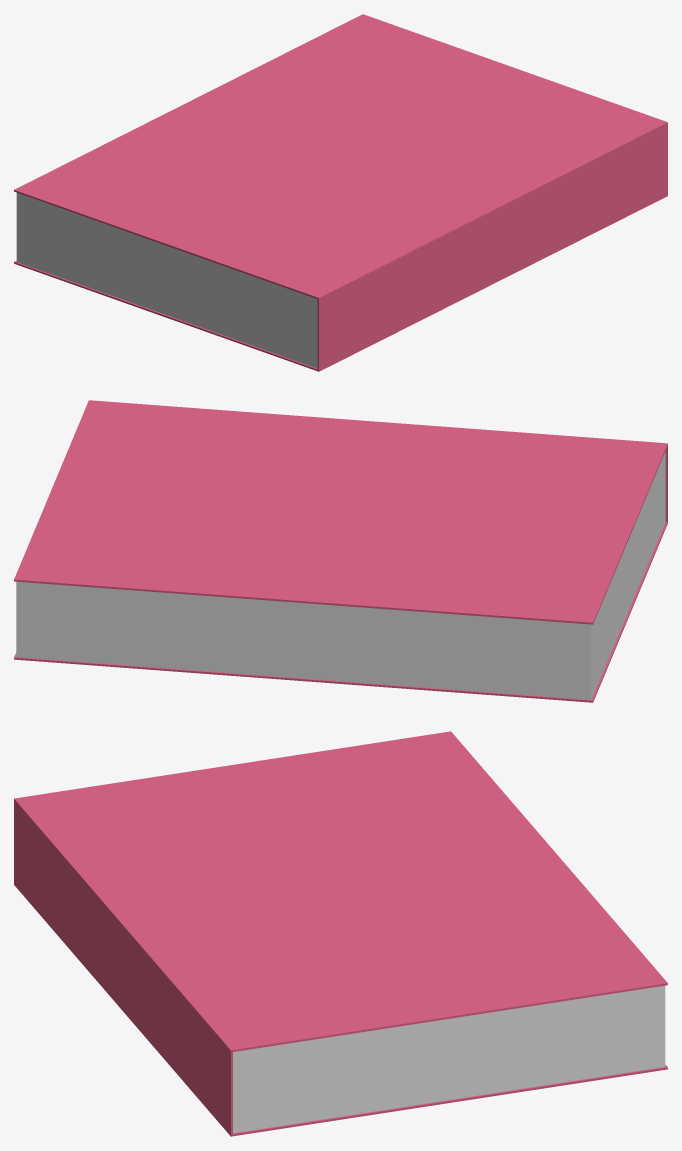
Rendered from buku 4_Scene.fbx.
3 views of the same model, one above another, from view 1: azimuth 30°, elevation 25°; view 2: azimuth 150°, elevation 25°; view 3: azimuth 270°, elevation 25° (orthographic). The views are drawn at different scales.
Visible parts, largest first — view 1: Book1; view 2: Book1; view 3: Book1.
Boxes of the visible parts, bbox=[...] form: Book1: bbox=[14, 14, 667, 371]; Book1: bbox=[14, 400, 667, 702]; Book1: bbox=[14, 731, 667, 1136].
Size of the model in its own units: 53.24 by 6.71 by 46.11.
